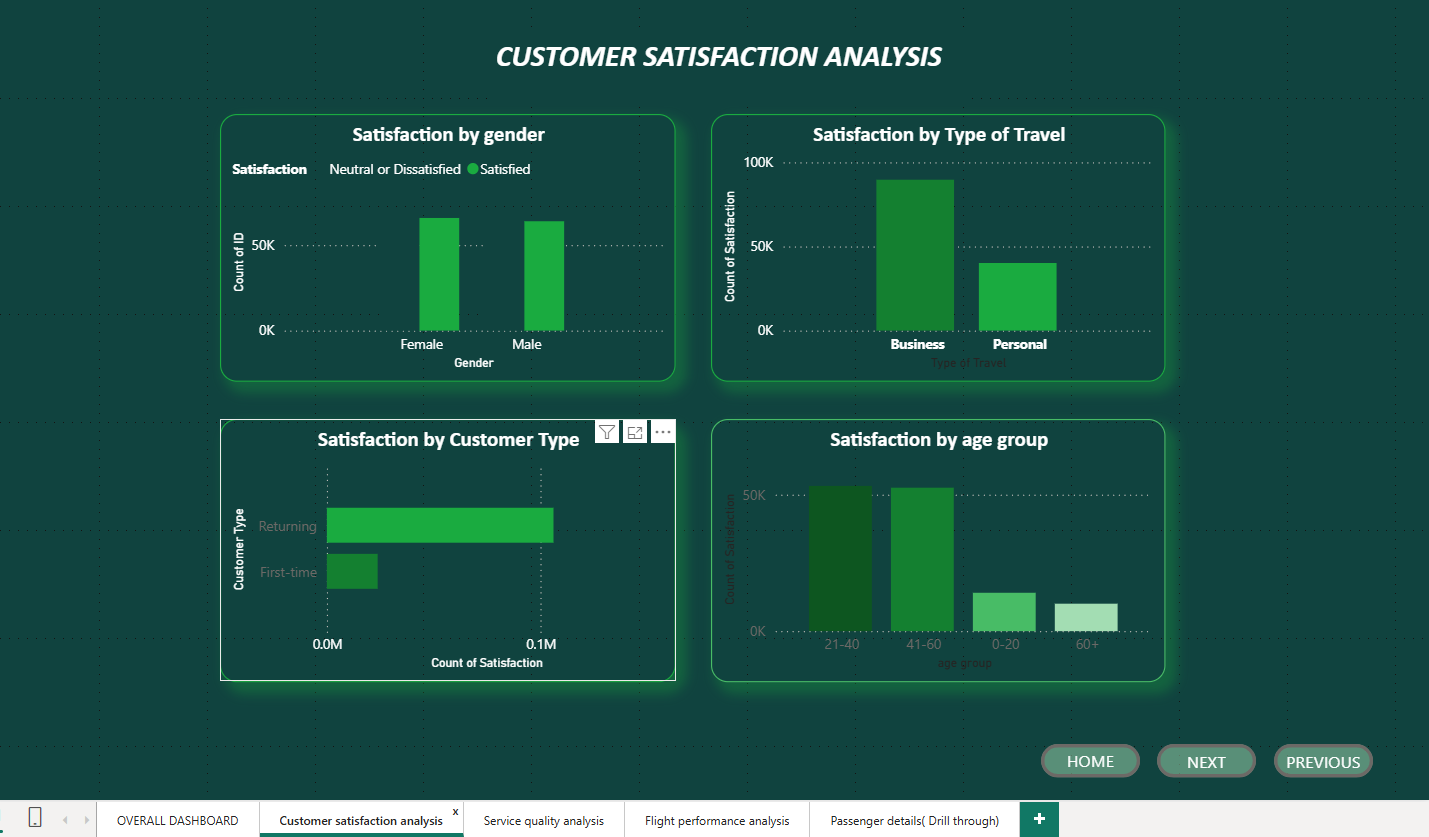

The dashboard page shown, as its layout file describes it:
{"tool":"powerbi","page":{"name":"Customer satisfaction analysis","canvas":[1280,720],"ordinal":1},"visuals":[{"type":"textbox","box":[443.5,37,425,64.2],"z":0},{"type":"clusteredColumnChart","title":" Satisfaction by gender","fields":{"Category":["Table4.Gender"],"Series":["Table1.Satisfaction"],"Y":["CountNonNull(Table4.ID)"]},"box":[203.9,109.9,404.8,237.5],"z":1000},{"type":"clusteredBarChart","title":"Satisfaction by Customer Type","fields":{"Category":["Table4.Customer Type"],"Y":["CountNonNull(Table1.Satisfaction)"]},"box":[203.9,381,404.8,233.6],"z":2000},{"type":"clusteredColumnChart","title":" Satisfaction by Type of Travel","fields":{"Category":["Table4.Type of Travel"],"Y":["CountNonNull(Table1.Satisfaction)"]},"box":[640.3,109.9,404,237.5],"z":3000},{"type":"columnChart","title":" Satisfaction by age group","fields":{"Category":["Table4.age group"],"Y":["CountNonNull(Table1.Satisfaction)"]},"box":[640.3,381,404,233.6],"z":4000},{"type":"actionButton","box":[933.3,670,88.1,29.7],"z":5000},{"type":"actionButton","box":[1036.2,670,88.1,29.7],"z":6000},{"type":"actionButton","box":[1140.1,670,88.1,29.7],"z":7000}]}

Visuals, with their boxes on the page's 1280x720 design canvas (x1, y1, x2, y2). These are canvas units, not pixel positions in the 1429x837 screenshot, which may show the page scaled, cropped or inside an application window:
textbox: {"x1": 444, "y1": 37, "x2": 868, "y2": 101}
" Satisfaction by gender" clusteredColumnChart: {"x1": 204, "y1": 110, "x2": 609, "y2": 347}
"Satisfaction by Customer Type" clusteredBarChart: {"x1": 204, "y1": 381, "x2": 609, "y2": 615}
" Satisfaction by Type of Travel" clusteredColumnChart: {"x1": 640, "y1": 110, "x2": 1044, "y2": 347}
" Satisfaction by age group" columnChart: {"x1": 640, "y1": 381, "x2": 1044, "y2": 615}
actionButton: {"x1": 933, "y1": 670, "x2": 1021, "y2": 700}
actionButton: {"x1": 1036, "y1": 670, "x2": 1124, "y2": 700}
actionButton: {"x1": 1140, "y1": 670, "x2": 1228, "y2": 700}
